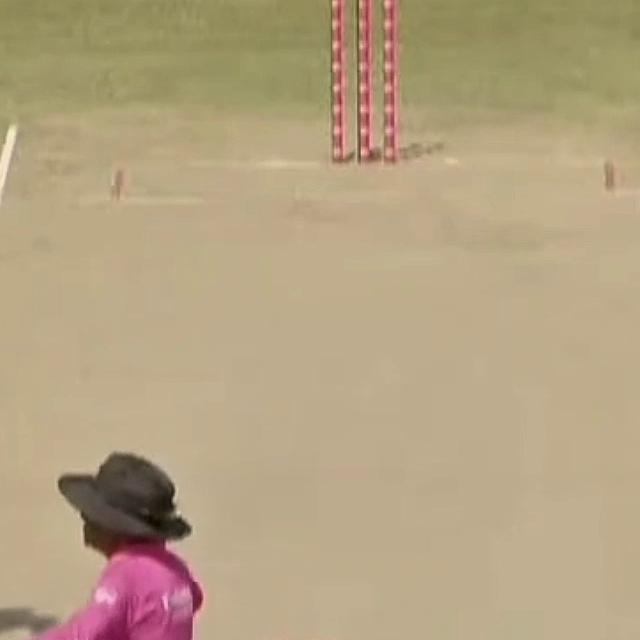umpire: (0, 420, 323, 640), (0, 430, 286, 640)
